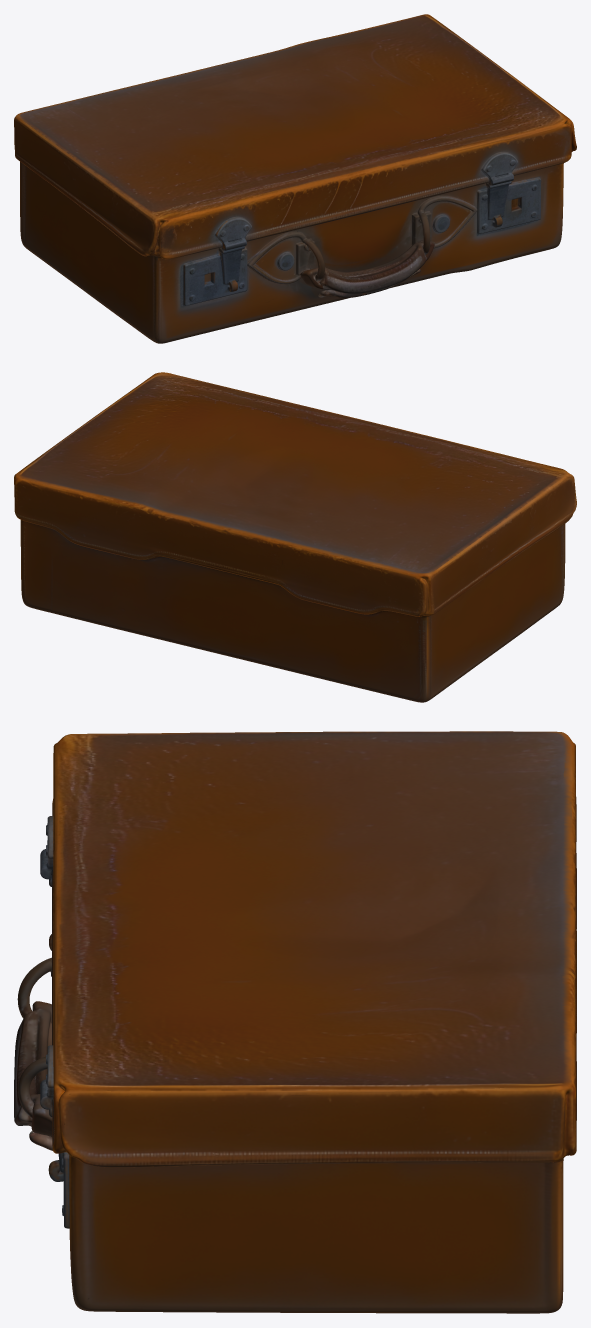
The model's file is 吉鸿昌夫人胡红霞在抗日时期为吉鸿昌送武器时用的皮箱.glb.
3 views of the same model, one above another, from view 1: azimuth 30°, elevation 25°; view 2: azimuth 150°, elevation 25°; view 3: azimuth 270°, elevation 25° (orthographic). The views are drawn at different scales.
Visible parts, largest first — view 1: texture_pbr_v128; view 2: texture_pbr_v128; view 3: texture_pbr_v128.
Boxes of the visible parts, x1,y1,x2,y2 form: texture_pbr_v128: (14, 14, 576, 343); texture_pbr_v128: (14, 372, 576, 702); texture_pbr_v128: (14, 731, 576, 1313).
Bounding box in the file's own units: 1.01 × 0.3058 × 0.6535.
Materials: 1 (1 with a texture image).
